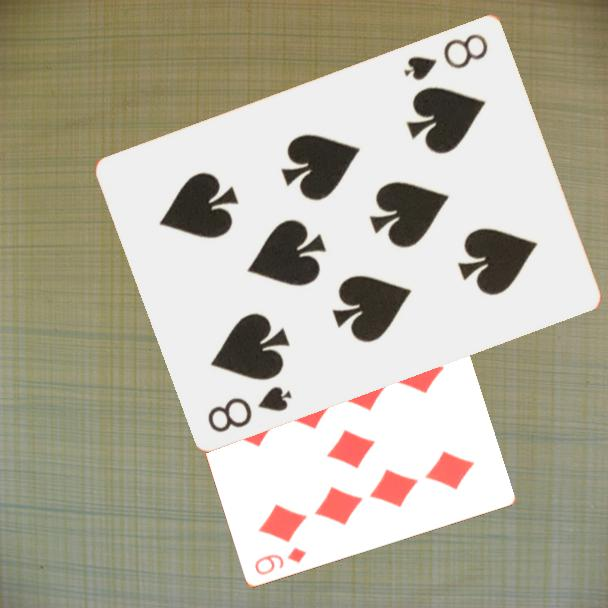d09: (251, 544, 309, 578)
s08: (400, 29, 491, 83), (204, 382, 296, 435)
